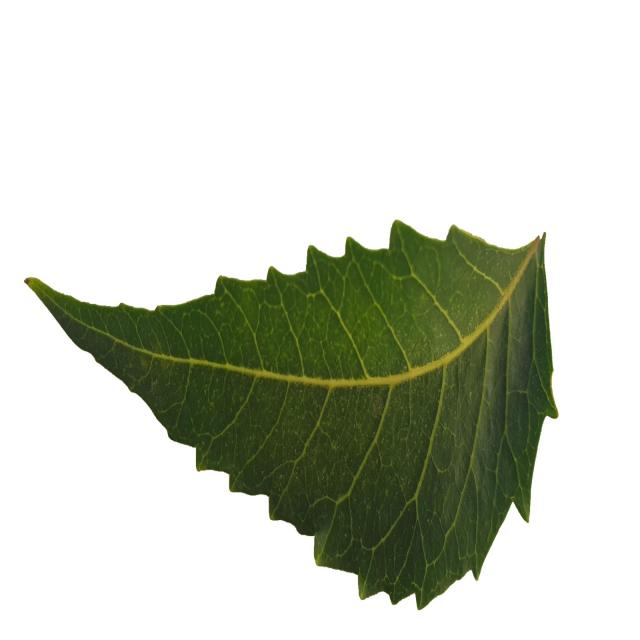Medicinal-Neem: (22, 218, 561, 610)
